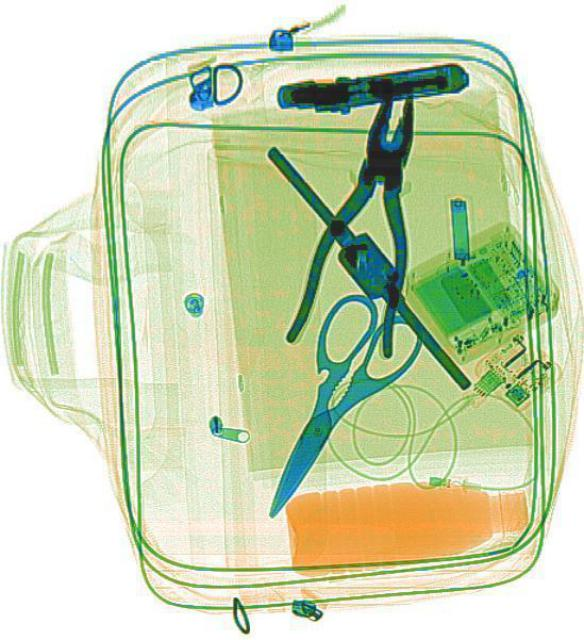Gun: (271, 60, 468, 120)
Pliers: (280, 80, 454, 366)
Scissors: (224, 280, 430, 540)
